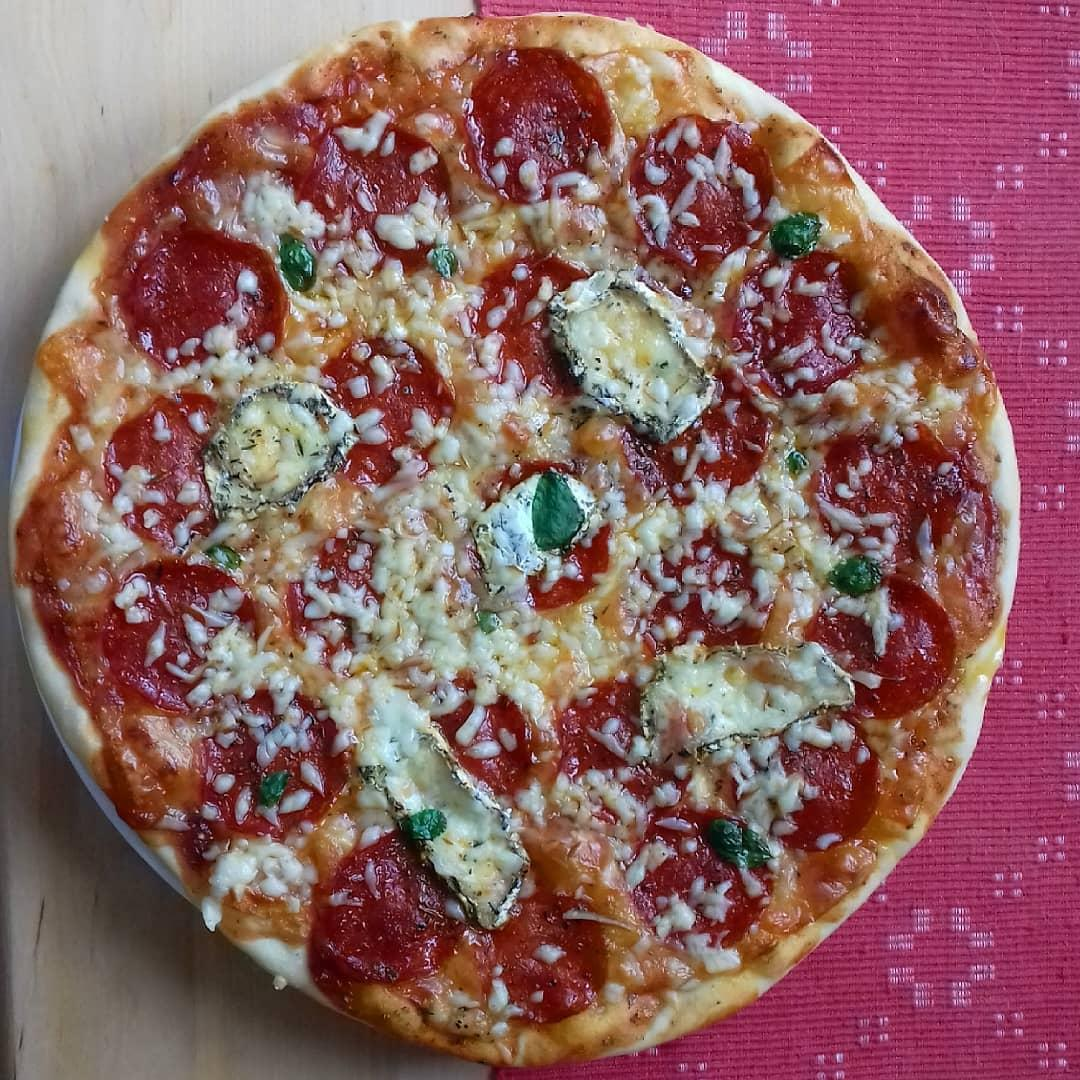Basil: (520, 460, 593, 564), (765, 203, 832, 270), (704, 810, 774, 873), (822, 548, 891, 608), (274, 227, 323, 298), (391, 802, 464, 849), (418, 236, 477, 285), (253, 762, 301, 811), (781, 441, 814, 483)
Pepperoni: (453, 37, 621, 215), (623, 101, 781, 282), (185, 689, 351, 859), (122, 218, 286, 385), (307, 818, 462, 991), (303, 329, 462, 495), (298, 118, 461, 275), (94, 559, 264, 709), (621, 801, 776, 961), (475, 449, 620, 615), (798, 570, 958, 720), (547, 660, 690, 825), (804, 415, 950, 574), (97, 386, 234, 552), (468, 247, 604, 405), (738, 704, 878, 854), (733, 245, 872, 394), (473, 884, 616, 1027), (639, 361, 767, 501), (420, 663, 547, 804), (286, 515, 394, 660)
Pizza: (0, 12, 1028, 1080)
